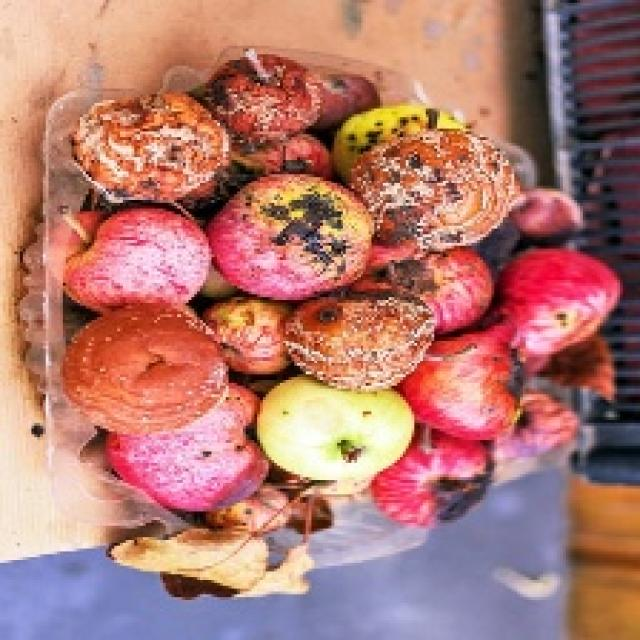rotten_apple: (66, 309, 220, 426), (363, 130, 507, 244), (214, 178, 360, 287), (77, 97, 220, 195), (106, 430, 267, 515), (288, 298, 433, 384), (429, 338, 525, 438), (222, 55, 316, 138), (363, 245, 494, 303), (393, 447, 490, 523)
